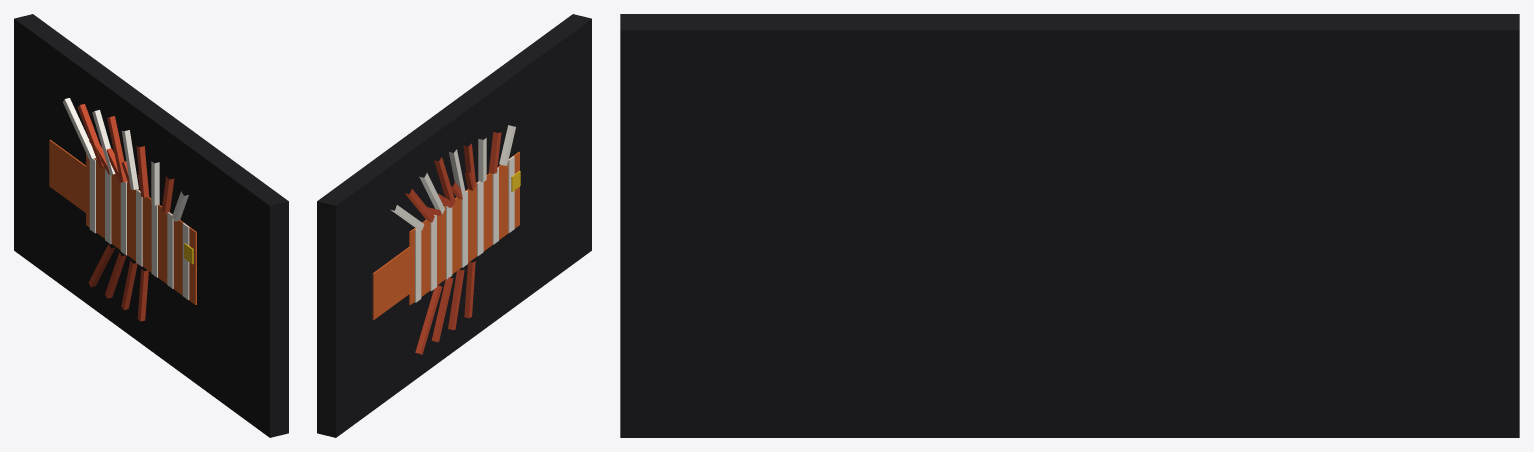
Rendered from sn_lionfish.glb.
The picture shows the model from 3 angles, left to right: view 1: azimuth 30°, elevation 25°; view 2: azimuth 150°, elevation 25°; view 3: azimuth 270°, elevation 25°; orthographic projection. The views are drawn at different scales.
Visible parts, largest first — view 1: sn_lionfish_lod0; view 2: sn_lionfish_lod0; view 3: sn_lionfish_lod0.
Part boxes in pixels (x1,y1,x2,y2): sn_lionfish_lod0: (14, 14, 288, 437); sn_lionfish_lod0: (317, 14, 591, 437); sn_lionfish_lod0: (620, 14, 1519, 437).
Size of what is drawn, in the model's own units: 0.7605 by 7 by 14.
